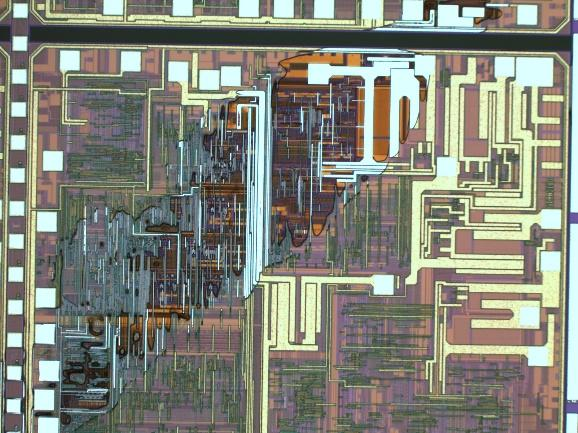COATING BAD: (12, 1, 513, 433)
